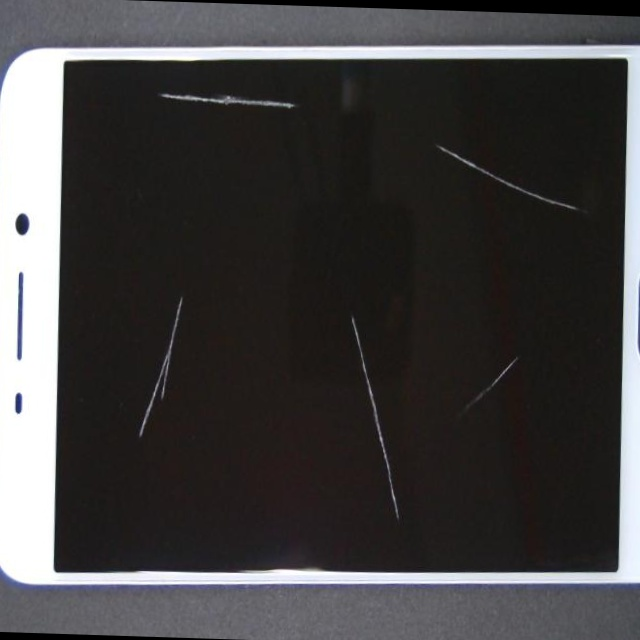scratch: (126, 13, 554, 558), (283, 128, 640, 535), (98, 45, 254, 500), (368, 151, 640, 268), (219, 47, 381, 125)
